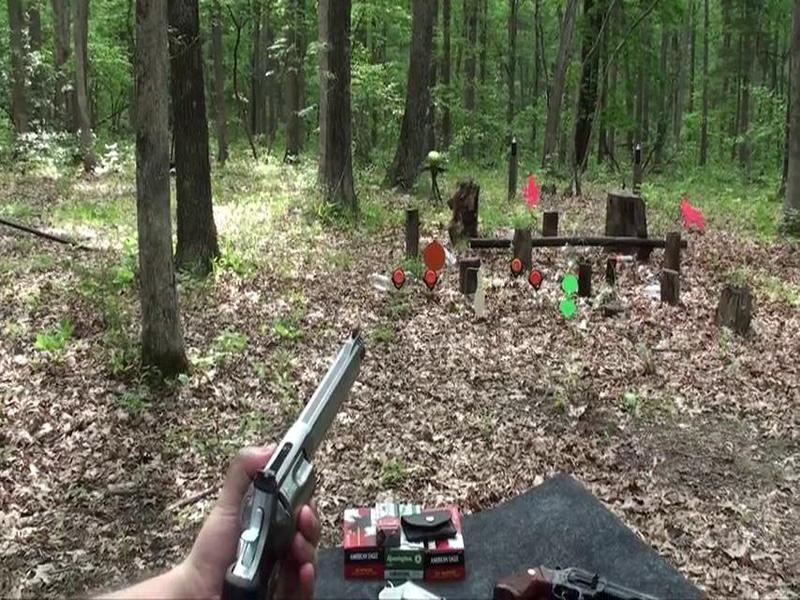Revolver: (205, 315, 388, 600)
